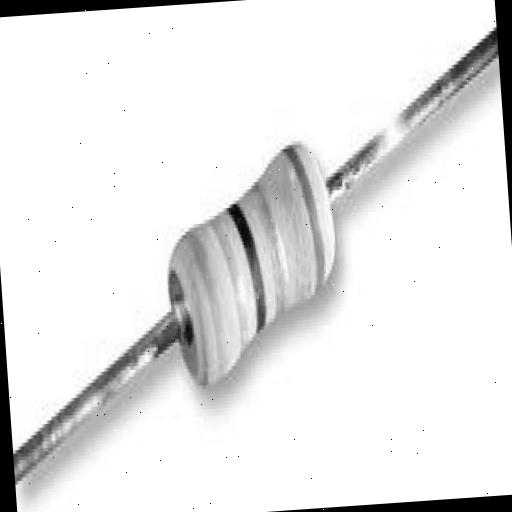RESISTOR: (111, 66, 370, 462)
